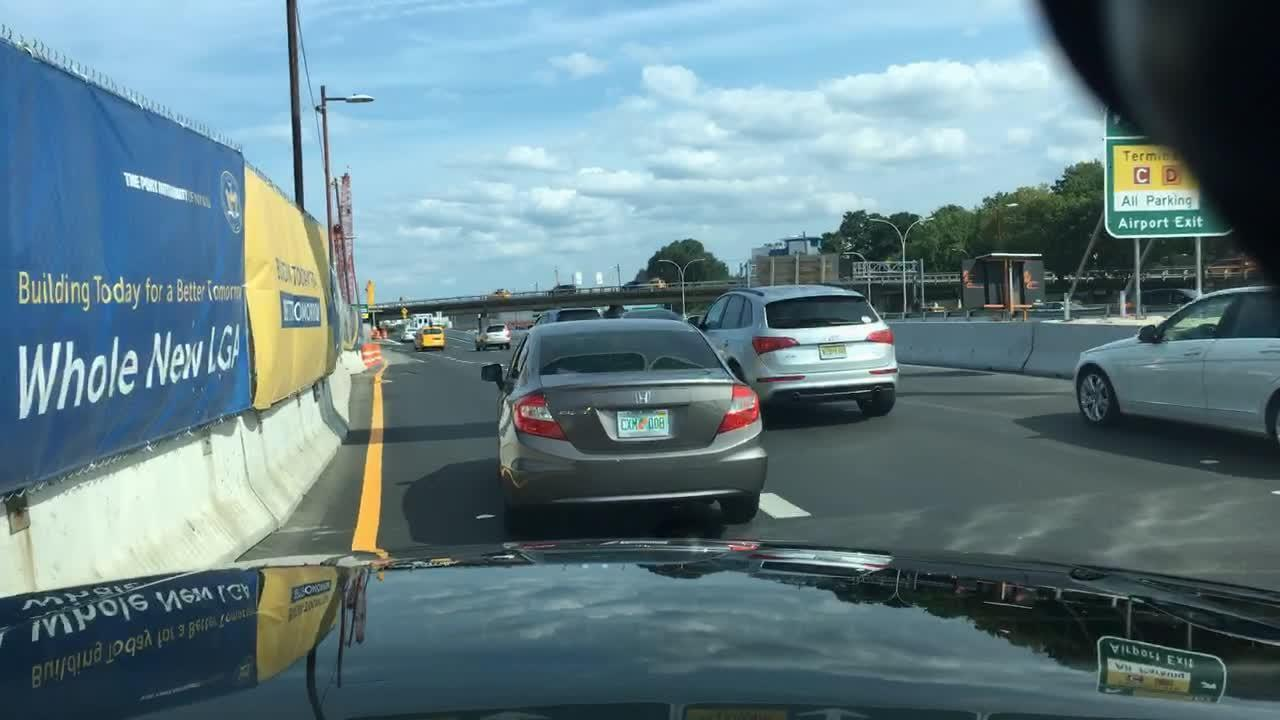Honda: (621, 380, 672, 415)
